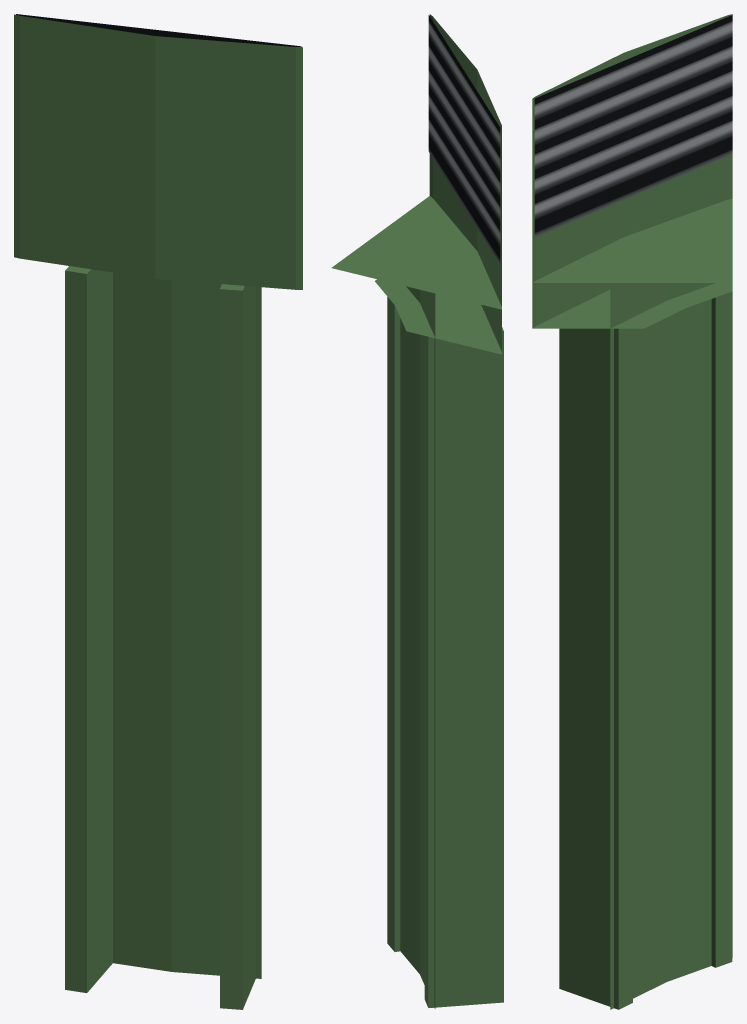
File: cell_56.obj
3 views of the same model, side by side, from view 1: azimuth 30°, elevation 25°; view 2: azimuth 150°, elevation 25°; view 3: azimuth 270°, elevation 25° (orthographic). The views are drawn at different scales.
Size of the model in its own units: 0.1991 by 1 by 0.1991.
